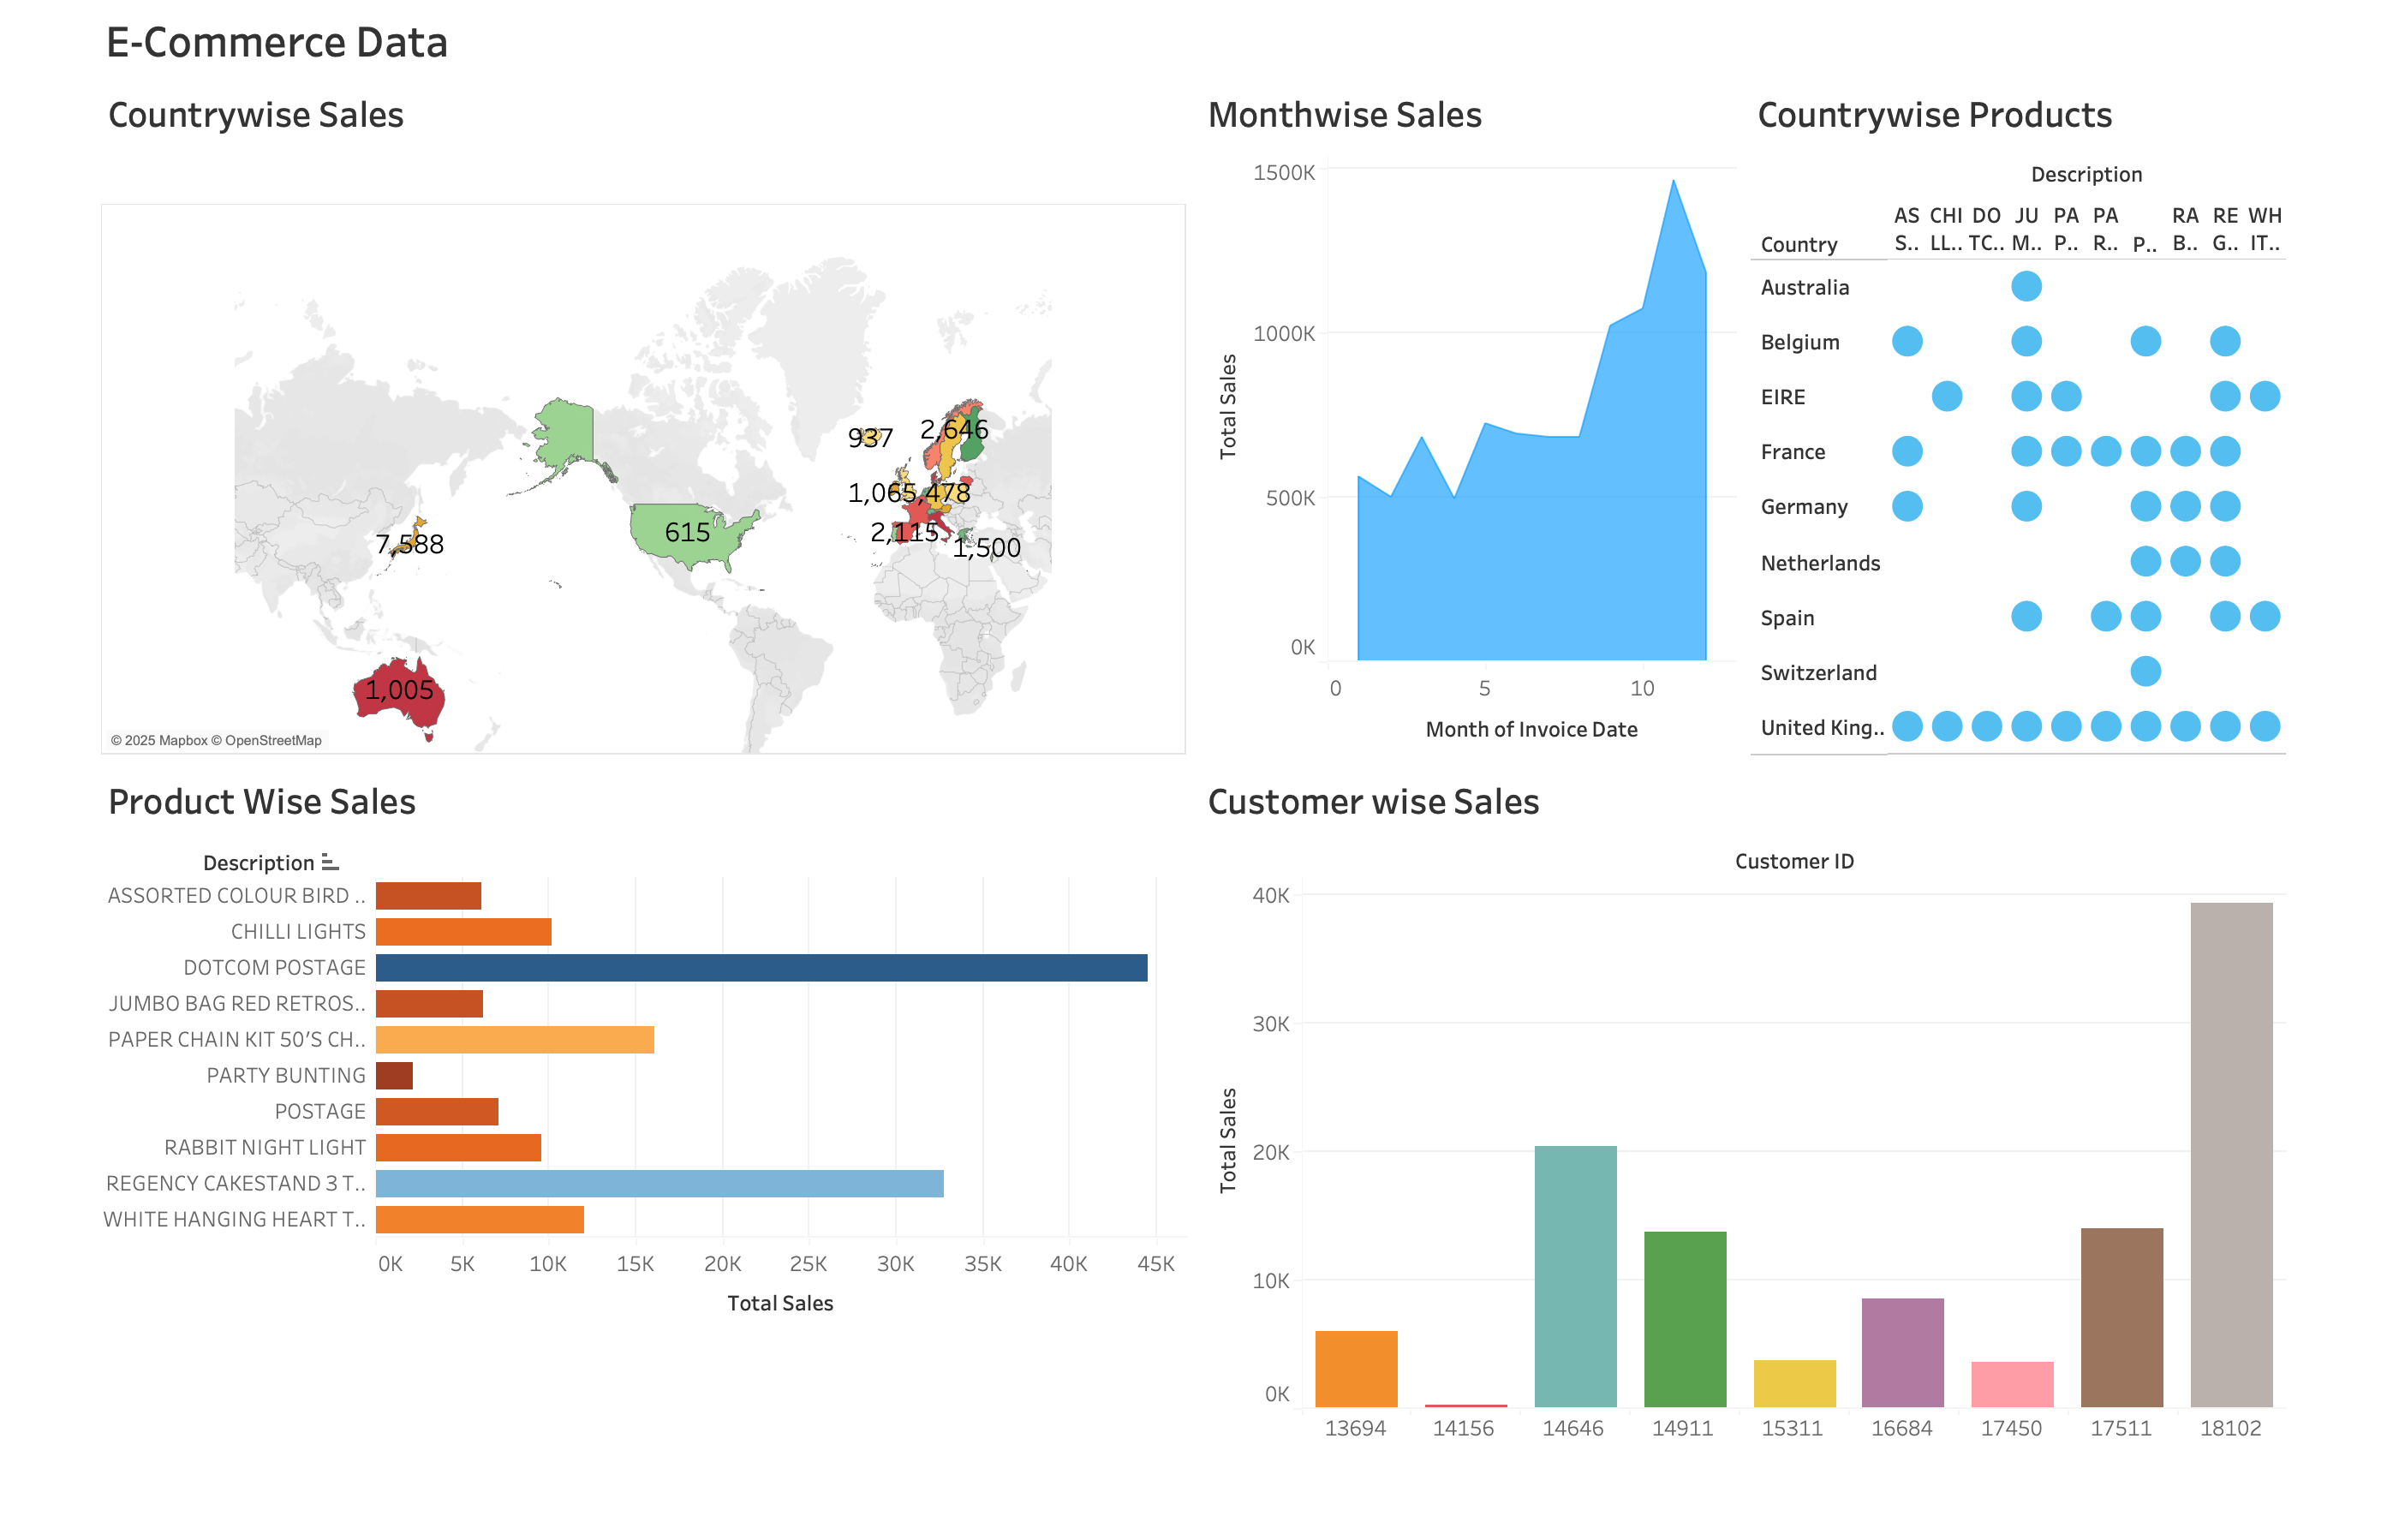

Layout of this report page (visuals, bound fields, positions):
{"tool":"tableau","page":{"name":"Dashboard 1","canvas":[1000,1000],"units":"permille","ordinal":0},"visuals":[{"type":"title","box":[6.2,9.3,987.7,47.7]},{"type":"worksheet","title":"Sheet 1","mark":"Multipolygon","box":[6.2,57,493.9,466.6]},{"type":"worksheet","title":"Sheet 3","mark":"Area","rows":["Calculation_3477060409767505921"],"cols":["InvoiceDate"],"box":[500,57,246.9,466.6]},{"type":"worksheet","title":"Sheet 5","mark":"Pie","rows":["Country"],"cols":["Description"],"box":[746.9,57,246.9,466.6]},{"type":"worksheet","title":"Sheet 2","mark":"Automatic","rows":["Description"],"cols":["Calculation_3477060409767505921"],"box":[6.2,523.6,493.9,467.1]},{"type":"worksheet","title":"Sheet 4","mark":"Automatic","rows":["Calculation_3477060409767505921"],"cols":["CustomerID"],"box":[500,523.6,493.9,467.1]}]}

Visuals, with their boxes on the dashboard's canvas, which has no fixed pixel size, in thousandths of its width and height (x1, y1, x2, y2). These are canvas units, not pixel positions in the 2381x1540 screenshot, which may show the page scaled, cropped or inside an application window:
title: x1=6 y1=9 x2=994 y2=57
"Sheet 1" worksheet (Multipolygon marks): x1=6 y1=57 x2=500 y2=524
"Sheet 3" worksheet (Area marks): x1=500 y1=57 x2=747 y2=524
"Sheet 5" worksheet (Pie marks): x1=747 y1=57 x2=994 y2=524
"Sheet 2" worksheet: x1=6 y1=524 x2=500 y2=991
"Sheet 4" worksheet: x1=500 y1=524 x2=994 y2=991
